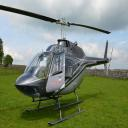helicopter: (1, 6, 115, 126)
